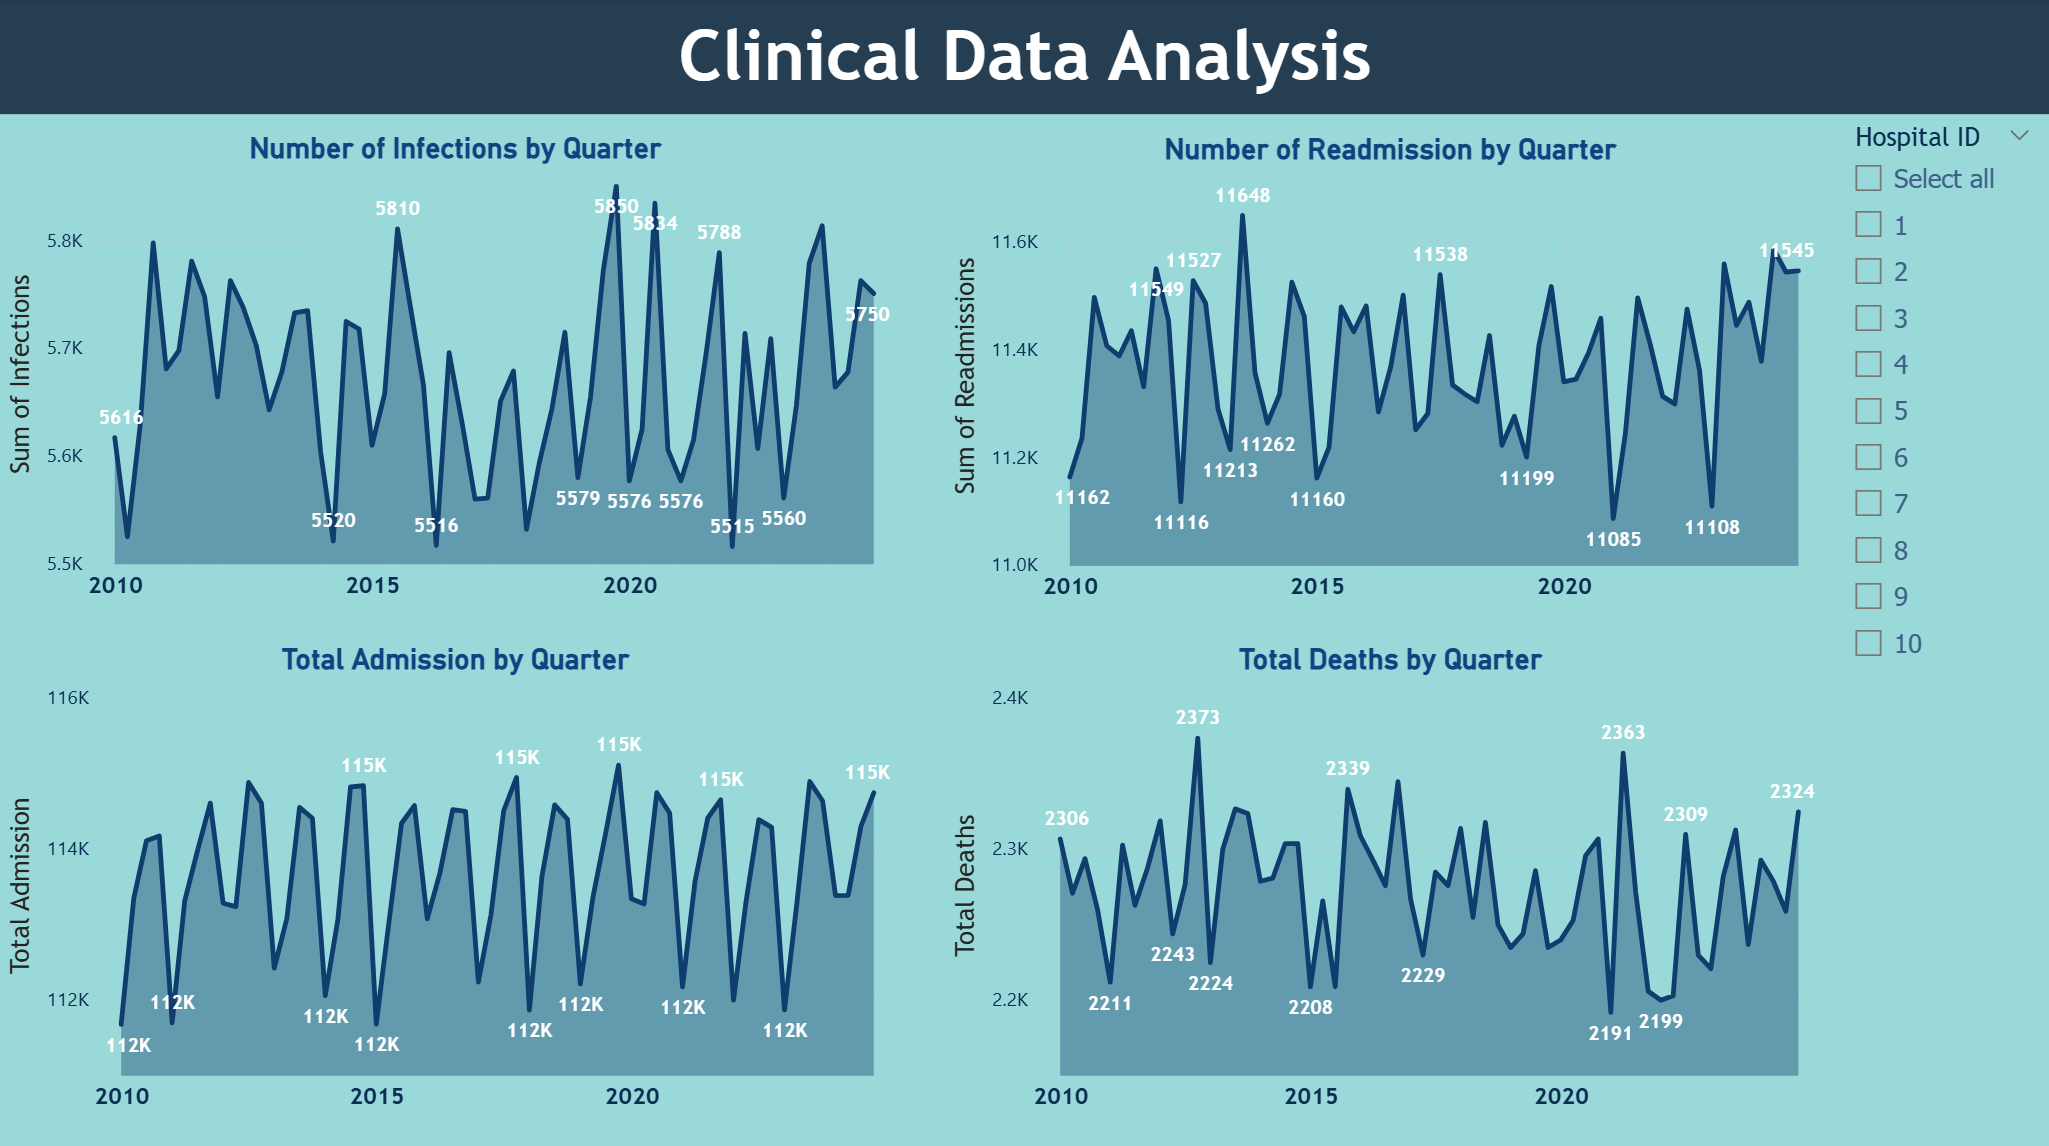

Layout of this report page (visuals, bound fields, positions):
{"tool":"powerbi","page":{"name":"Analysis by Year","canvas":[1280,720],"ordinal":1},"visuals":[{"type":"shape","box":[0,0,1279.9,73.1],"z":0},{"type":"lineChart","title":"Number of Infections by Quarter","fields":{"Category":["Query1.AdmissionDate.Variation.Date Hierarchy.Year","Query1.AdmissionDate.Variation.Date Hierarchy.Quarter"],"Y":["Sum(Query1.Infections)"]},"box":[0,83.8,568.6,300.8],"z":1000},{"type":"areaChart","title":"Number of Readmission by Quarter","fields":{"Y":["Sum(Query1.Readmissions)"],"Category":["Query1.AdmissionDate.Variation.Date Hierarchy.Year","Query1.AdmissionDate.Variation.Date Hierarchy.Quarter"]},"box":[589.8,84.9,555.6,300.8],"z":2000},{"type":"slicer","fields":{"Values":["Query1.HospitalID"]},"box":[1144.9,73.6,134.4,615.6],"z":3000},{"type":"areaChart","title":"Total Admission by Quarter","fields":{"Y":["Sum(Query1.TotalAdmissions)"],"Category":["Query1.AdmissionDate.Variation.Date Hierarchy.Year","Query1.AdmissionDate.Variation.Date Hierarchy.Quarter"]},"box":[0,402.3,568.6,300.8],"z":4000},{"type":"areaChart","title":"Total Deaths by Quarter","fields":{"Y":["Sum(Query1.TotalDeaths)"],"Category":["Query1.AdmissionDate.Variation.Date Hierarchy.Year","Query1.AdmissionDate.Variation.Date Hierarchy.Quarter"]},"box":[589.8,402.3,555.6,300.8],"z":5000}]}

Visuals, with their boxes in screenshot pixels (x1, y1, x2, y2), scaled from the page's 1280x720 canvas onto the 2049x1146 screenshot:
shape: select_region(0, 0, 2048, 116)
"Number of Infections by Quarter" lineChart: select_region(0, 133, 910, 612)
"Number of Readmission by Quarter" areaChart: select_region(944, 135, 1834, 614)
slicer - Query1.HospitalID: select_region(1833, 117, 2048, 1097)
"Total Admission by Quarter" areaChart: select_region(0, 640, 910, 1119)
"Total Deaths by Quarter" areaChart: select_region(944, 640, 1834, 1119)
